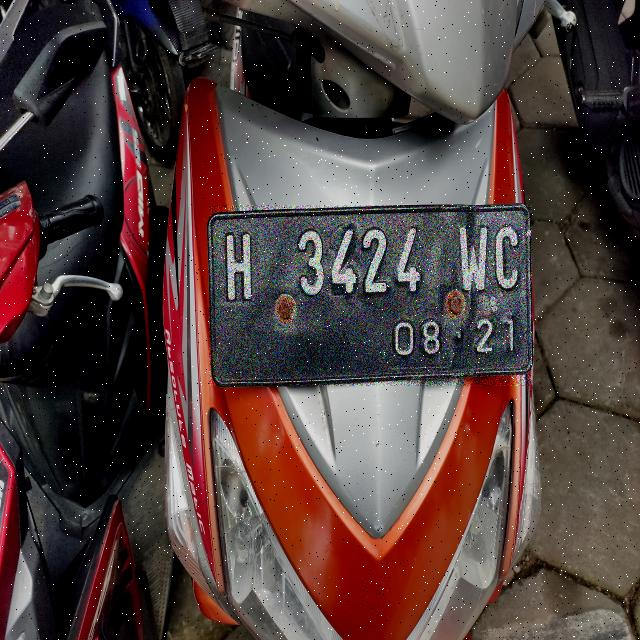plate: (209, 205, 531, 385)
